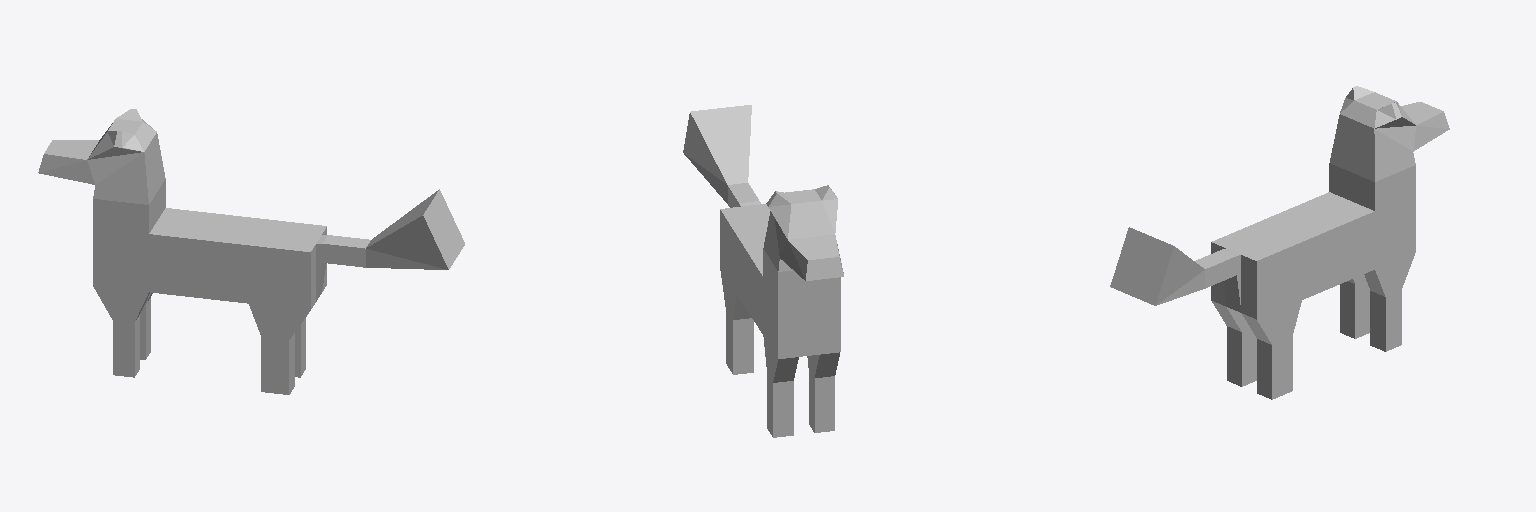
Rendered from dog.obj.
The picture shows the model from 3 angles: view 1: azimuth 30°, elevation 25°; view 2: azimuth 150°, elevation 25°; view 3: azimuth 270°, elevation 25°; orthographic projection.
Parts seen in each view (by area): view 1: Cube; view 2: Cube; view 3: Cube.
Boxes of the visible parts, x1=… form: Cube: x1=38, y1=109, x2=464, y2=394; Cube: x1=683, y1=105, x2=843, y2=437; Cube: x1=1110, y1=86, x2=1449, y2=399.
Size of the model in its own units: 4.23 by 3.33 by 4.23.